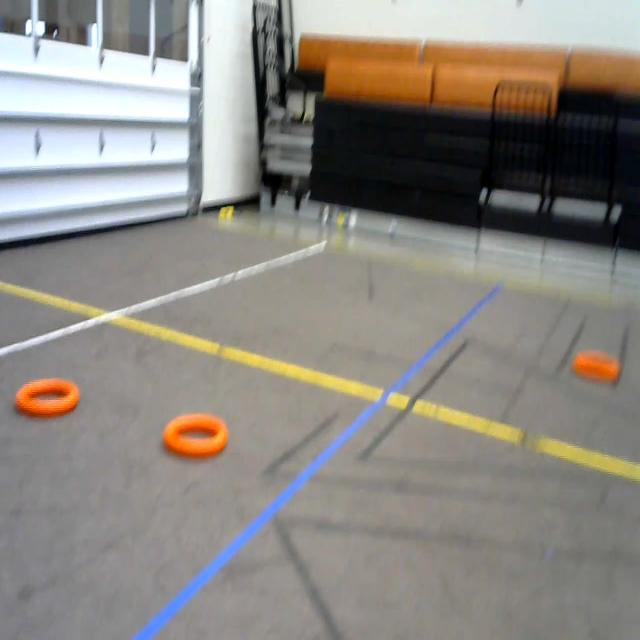note: (161, 410, 235, 465), (10, 370, 87, 418), (570, 347, 624, 392)
